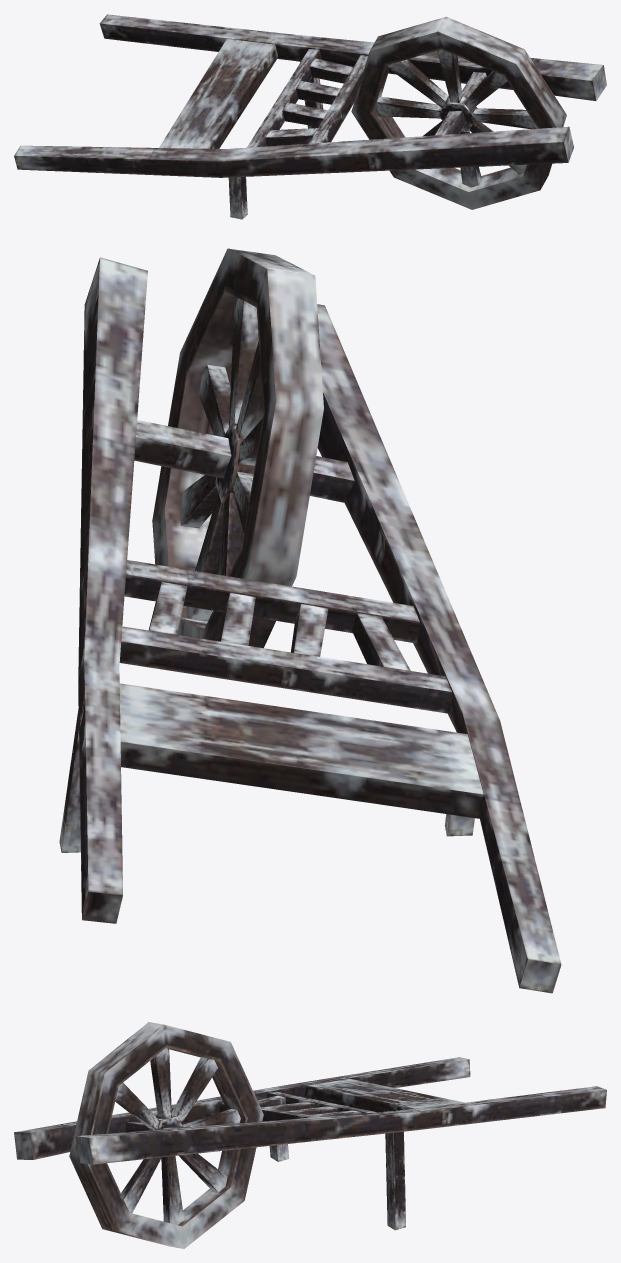
The model's file is Item_07.FBX.
3 renders of one model, top to bottom at view 1: azimuth 30°, elevation 25°; view 2: azimuth 150°, elevation 25°; view 3: azimuth 270°, elevation 25°, orthographic. The views are drawn at different scales.
Visible parts, largest first — view 1: item_07; view 2: item_07; view 3: item_07.
Boxes of the visible parts, <box> form: item_07: <box>14,14,606,219</box>; item_07: <box>59,248,561,993</box>; item_07: <box>14,1022,606,1248</box>.
Bounding box in the file's own units: 222 × 104 × 266.
